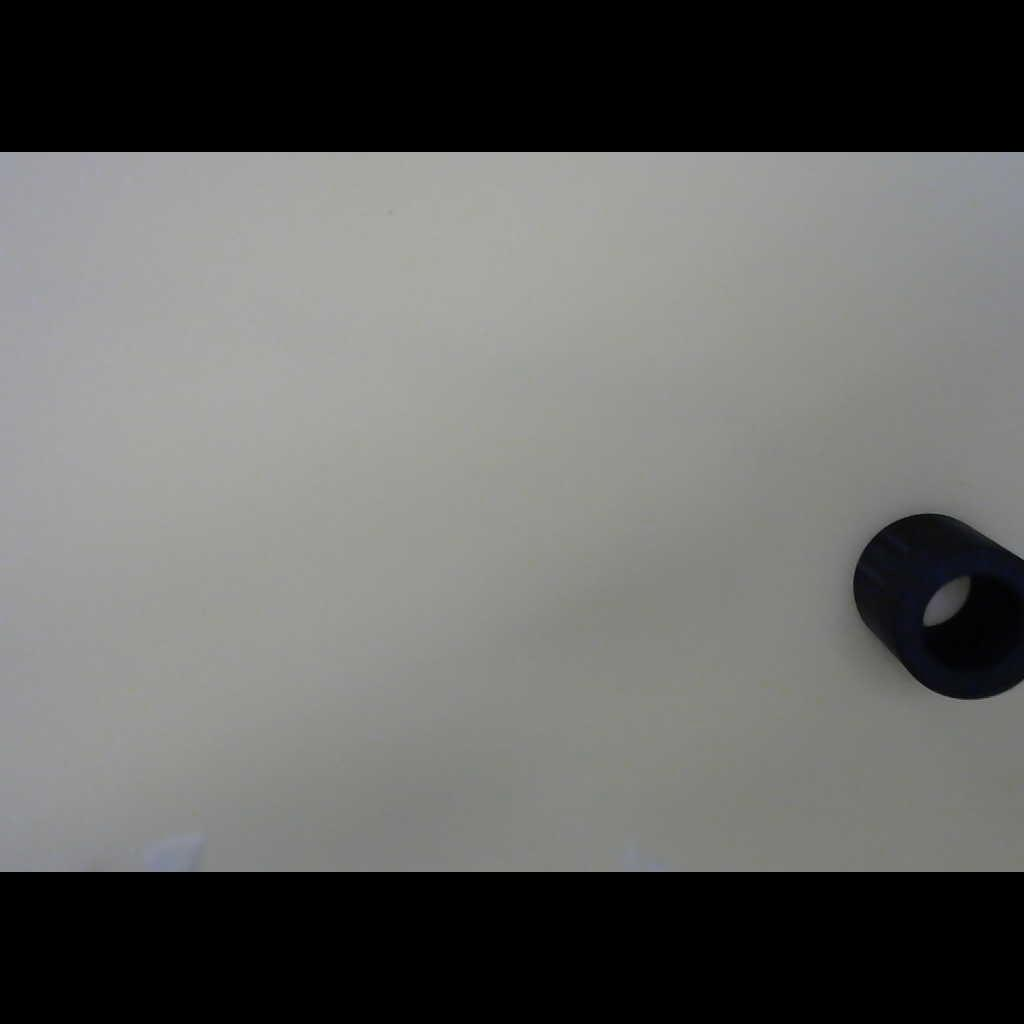ring: (846, 508, 1024, 702)
